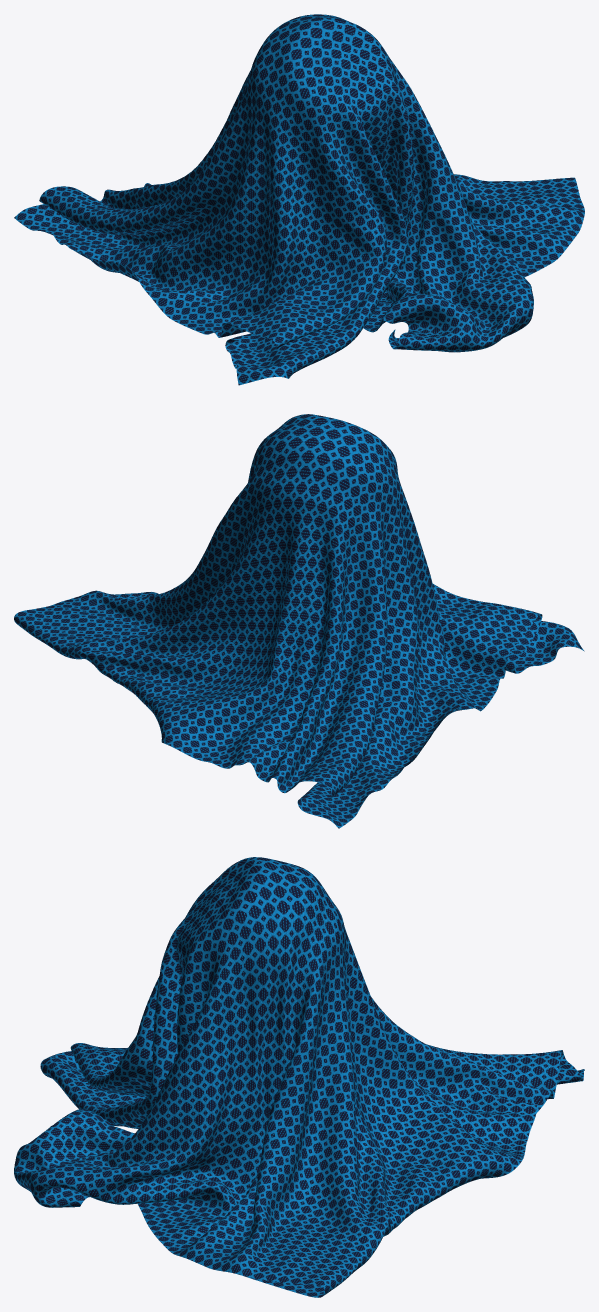
File: SheenCloth.glb
3 renders of one model, top to bottom at view 1: azimuth 30°, elevation 25°; view 2: azimuth 150°, elevation 25°; view 3: azimuth 270°, elevation 25°, orthographic. The views are drawn at different scales.
Bounding box in the file's own units: 0.0721 × 0.0403 × 0.0713.
1 material, 1 textured.
